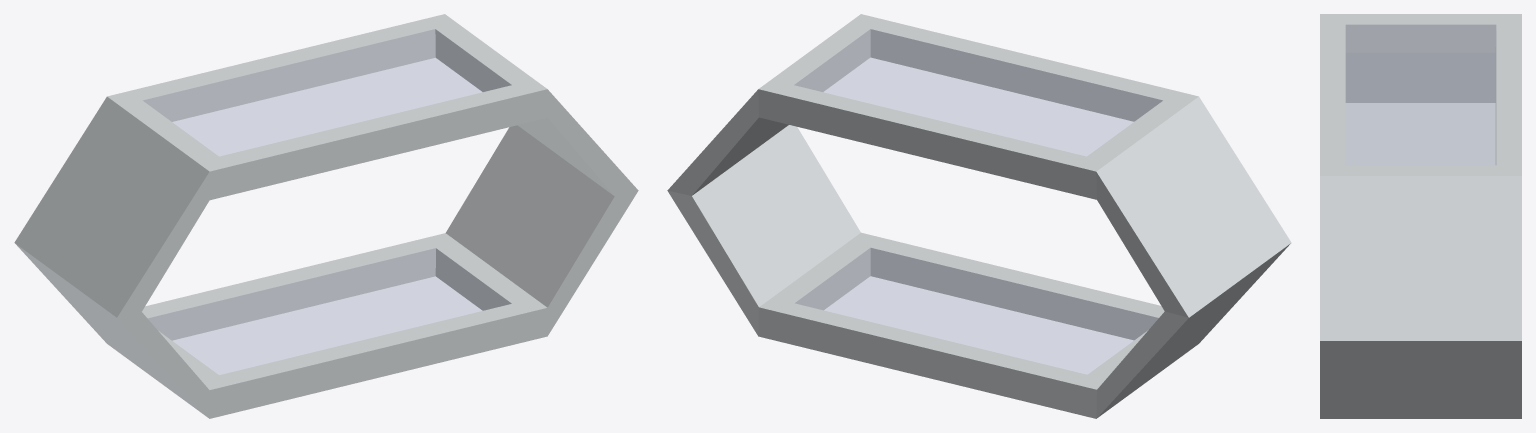
Rendered from hexagon rectangle table with glass white.glb.
3 views of the same model, side by side, from view 1: azimuth 30°, elevation 25°; view 2: azimuth 150°, elevation 25°; view 3: azimuth 270°, elevation 25° (orthographic).
Visible parts, largest first — view 1: geometric glass table white; view 2: geometric glass table white; view 3: geometric glass table white.
Boxes of the visible parts, x1=… form: geometric glass table white: x1=14, y1=14, x2=638, y2=418; geometric glass table white: x1=667, y1=14, x2=1291, y2=418; geometric glass table white: x1=1320, y1=14, x2=1521, y2=418.
Size of the model in its own units: 2.05 by 0.9304 by 0.7.
